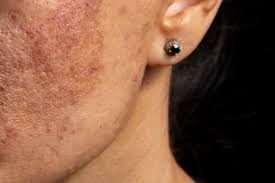Melasma: (1, 0, 100, 157)
